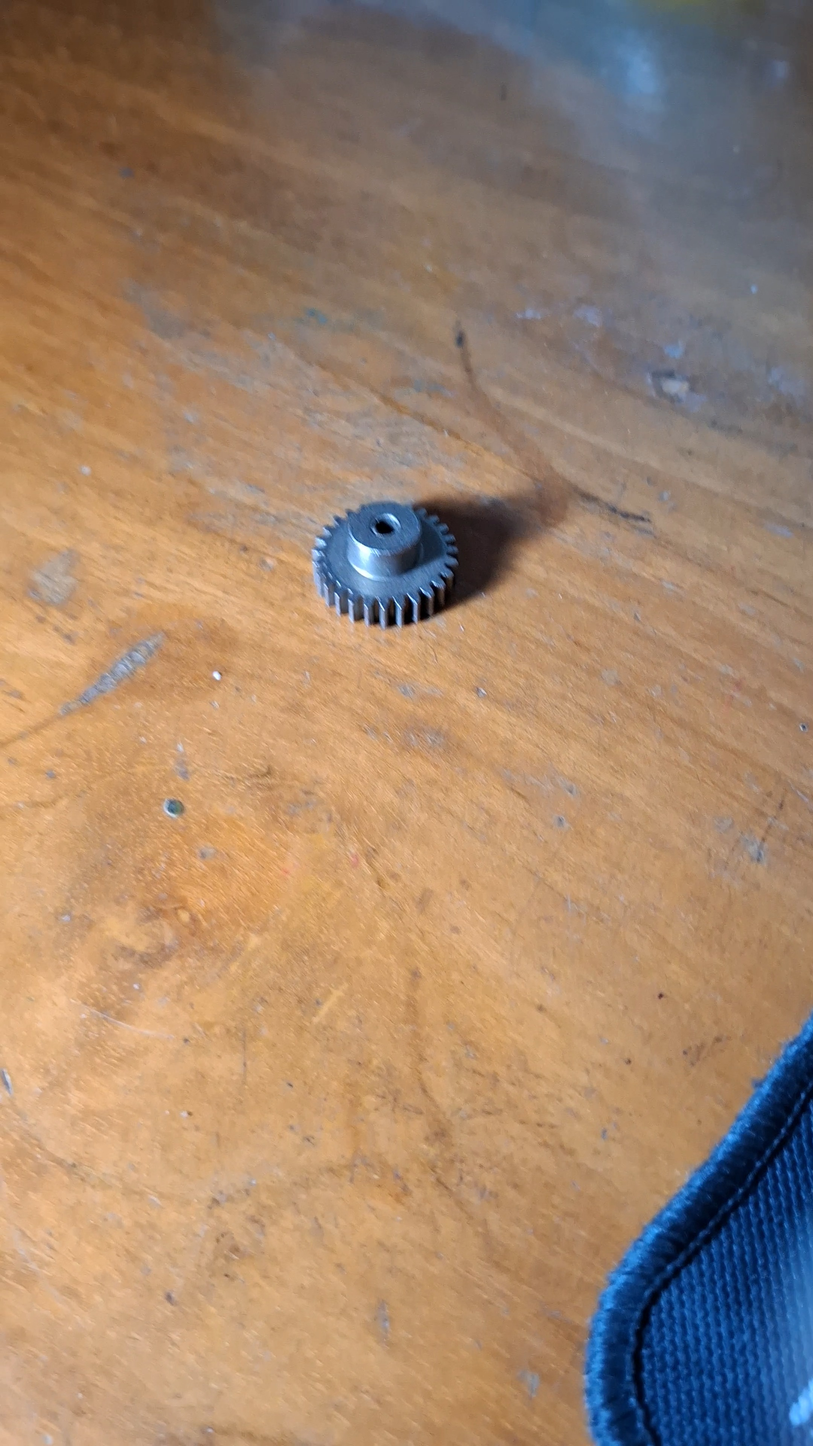spur gear: (312, 501, 457, 627)
